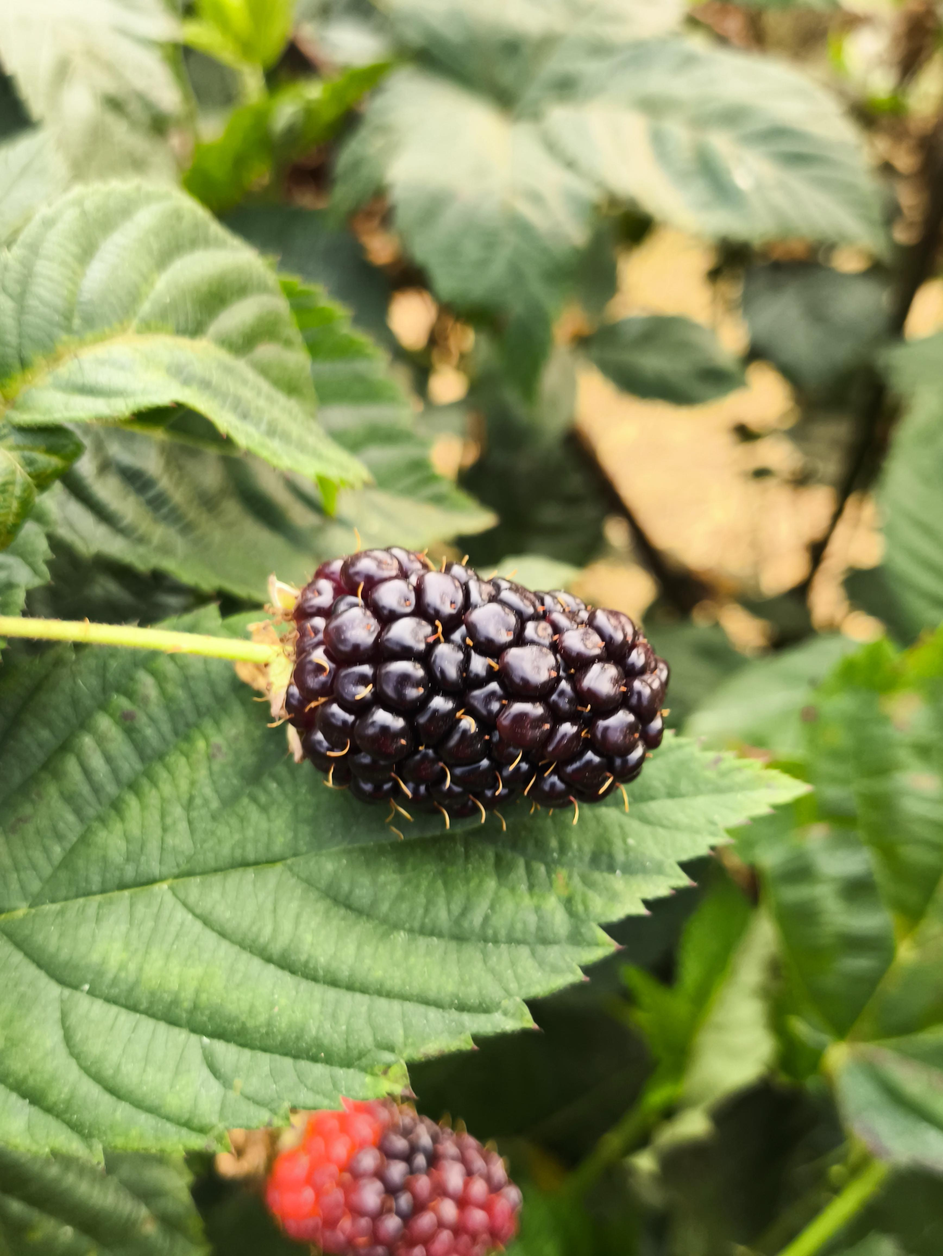maduro: (280, 560, 656, 808)
marron: (266, 1099, 520, 1256)
